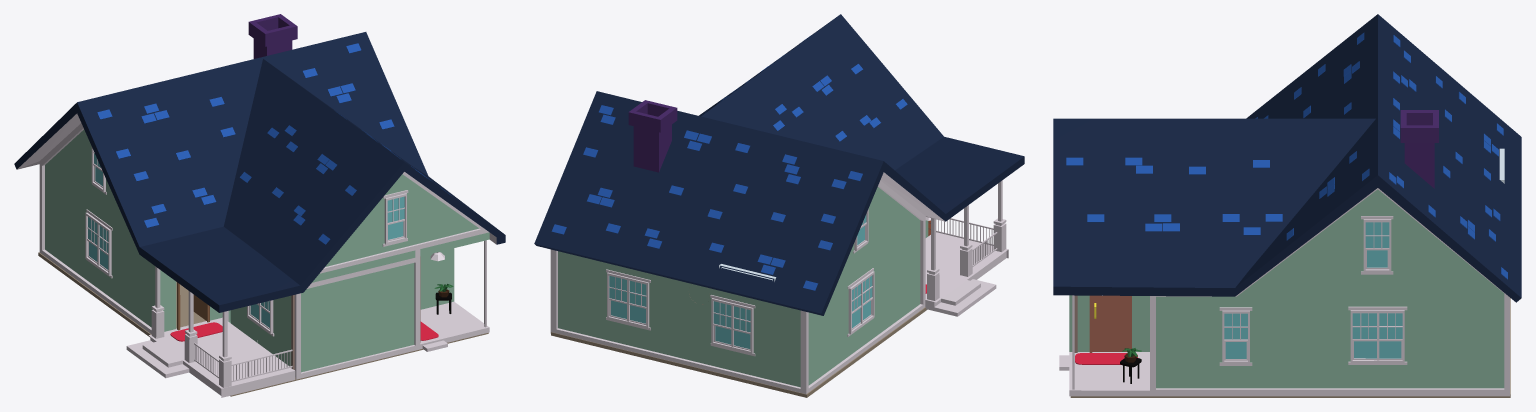
File: HOUSE 3 FINAL.fbx
3 renders of one model, left to right at view 1: azimuth 30°, elevation 25°; view 2: azimuth 150°, elevation 25°; view 3: azimuth 270°, elevation 25°, orthographic. The views are drawn at different scales.
Parts seen in each view (by area): view 1: HOUSE3; view 2: HOUSE3; view 3: HOUSE3.
Part boxes in pixels (left/top/right/bottom): HOUSE3: left=14, top=14, right=505, bottom=397; HOUSE3: left=534, top=14, right=1024, bottom=397; HOUSE3: left=1053, top=14, right=1521, bottom=397.
Size of the model in its own units: 955 by 646 by 1124.
4 materials, 3 textured.
